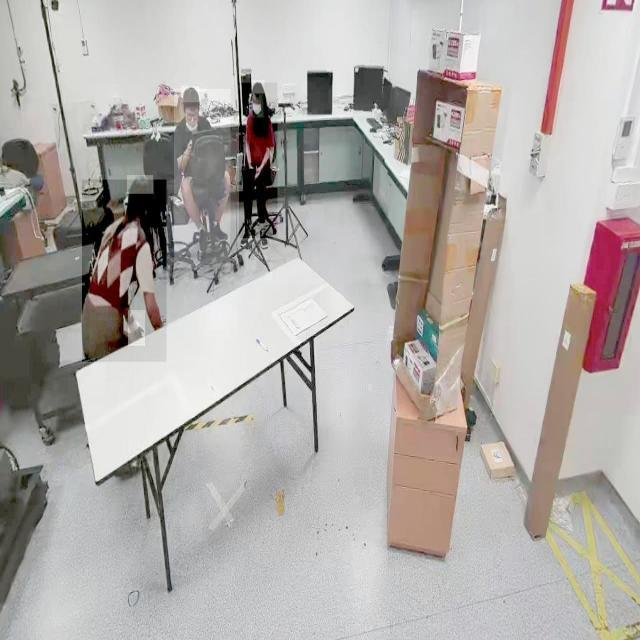gloves: (128, 310, 146, 347)
